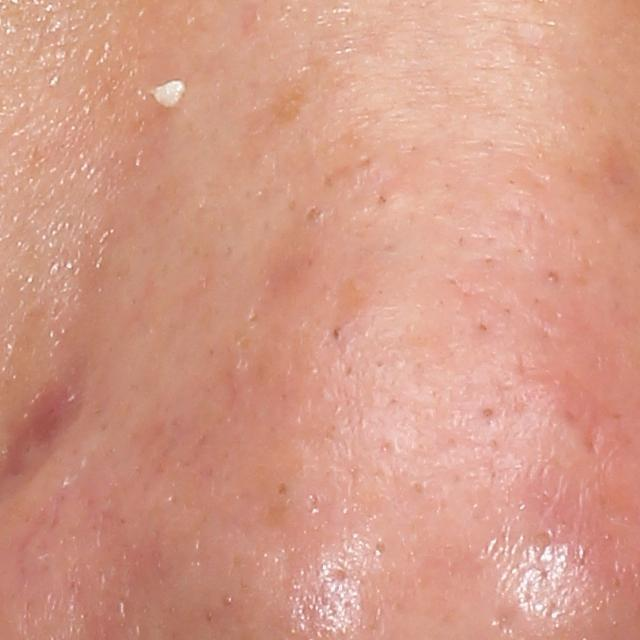comedo: (302, 203, 339, 231), (332, 327, 345, 341)
other: (143, 73, 187, 112)
